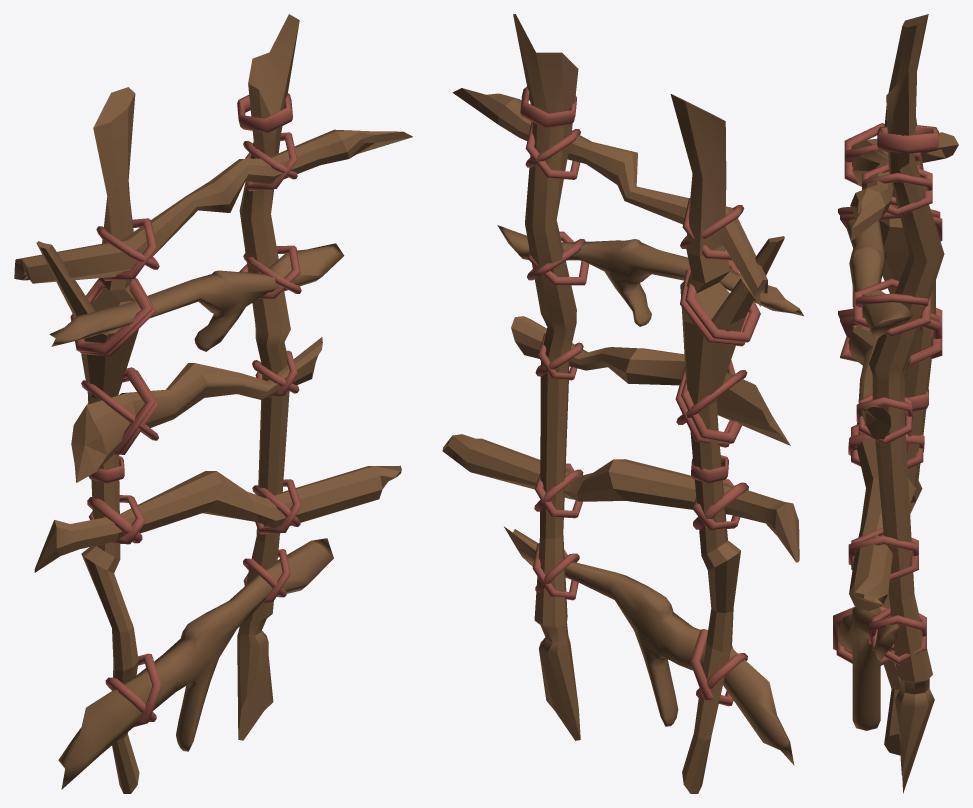
Rendered from Fence2.fbx.
The picture shows the model from 3 angles, left to right: view 1: azimuth 30°, elevation 25°; view 2: azimuth 150°, elevation 25°; view 3: azimuth 270°, elevation 25°; orthographic projection. The views are drawn at different scales.
Visible parts, largest first — view 1: pCylinder9, pCylinder8, pCube1, pCylinder10, pCylinder11, pCube2, pCylinder12, Ropes28, Ropes45, Ropes40, Ropes23, Ropes42 (+3 smaller); view 2: pCylinder8, pCylinder9, pCube1, pCylinder10, pCylinder11, pCylinder12, pCube2, Ropes28, Ropes45, Ropes40, Ropes42, Ropes27 (+5 smaller); view 3: pCylinder9, pCylinder8, pCylinder10, pCube1, pCube2, pCylinder11, pCylinder12, Ropes45, Ropes30, Ropes25, Ropes34, Ropes41 (+16 smaller).
Part boxes in pixels (bbox=[...]): pCylinder9: bbox=[237, 14, 299, 740]; pCylinder8: bbox=[36, 87, 139, 793]; pCube1: bbox=[58, 538, 333, 789]; pCylinder10: bbox=[34, 465, 401, 572]; pCylinder11: bbox=[14, 129, 412, 283]; pCube2: bbox=[49, 243, 344, 351]; pCylinder12: bbox=[71, 337, 322, 482]; Ropes28: bbox=[70, 279, 152, 353]; Ropes45: bbox=[237, 93, 292, 132]; Ropes40: bbox=[87, 367, 155, 452]; Ropes23: bbox=[103, 218, 156, 281]; Ropes42: bbox=[134, 653, 161, 726]; pCylinder8: bbox=[670, 94, 784, 793]; pCylinder9: bbox=[513, 14, 580, 740]; pCube1: bbox=[504, 526, 794, 765]; pCylinder10: bbox=[442, 434, 799, 562]; pCylinder11: bbox=[452, 88, 767, 306]; pCylinder12: bbox=[511, 316, 790, 445]; pCube2: bbox=[497, 225, 803, 326]; Ropes28: bbox=[685, 260, 760, 342]; Ropes45: bbox=[520, 86, 576, 128]; Ropes40: bbox=[681, 360, 741, 443]; Ropes42: bbox=[690, 629, 733, 706]; Ropes27: bbox=[680, 268, 749, 346]; pCylinder9: bbox=[869, 61, 944, 793]; pCylinder8: bbox=[879, 14, 935, 755]; pCylinder10: bbox=[849, 422, 915, 611]; pCube1: bbox=[837, 606, 899, 730]; pCube2: bbox=[845, 219, 912, 338]; pCylinder11: bbox=[850, 132, 958, 241]; pCylinder12: bbox=[848, 324, 911, 439]; Ropes45: bbox=[877, 125, 938, 153]; Ropes30: bbox=[853, 278, 930, 336]; Ropes25: bbox=[862, 163, 932, 216]; Ropes34: bbox=[848, 535, 918, 564]; Ropes41: bbox=[840, 307, 942, 366].
Bounding box in the file's own units: 6.19 × 12.03 × 1.75.
